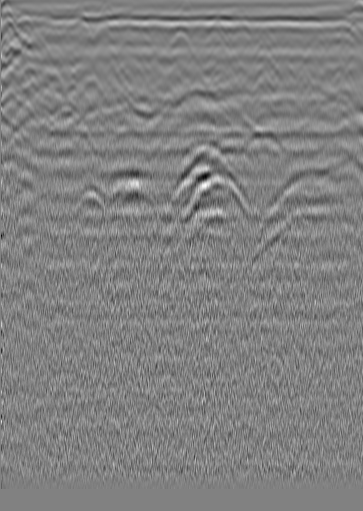가스: (101, 178, 156, 218)
상수: (310, 26, 330, 46)
오수: (14, 16, 34, 36)
우수: (171, 29, 191, 49)
